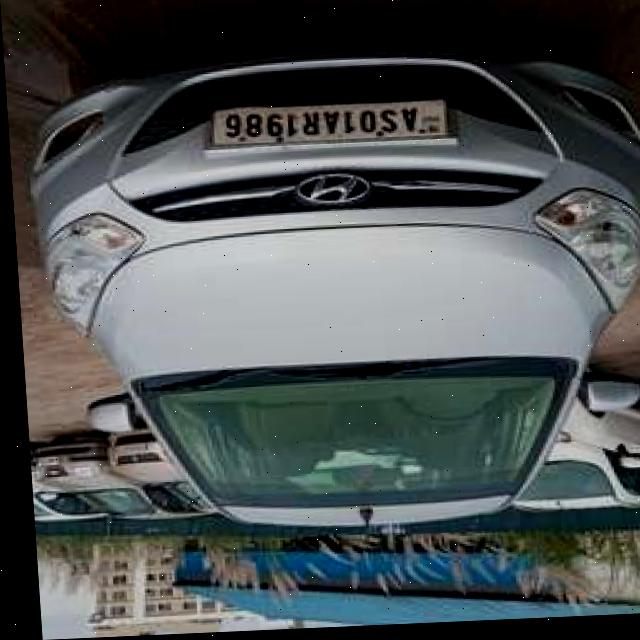plate: (205, 98, 453, 157), (112, 444, 143, 455), (30, 455, 54, 466)
